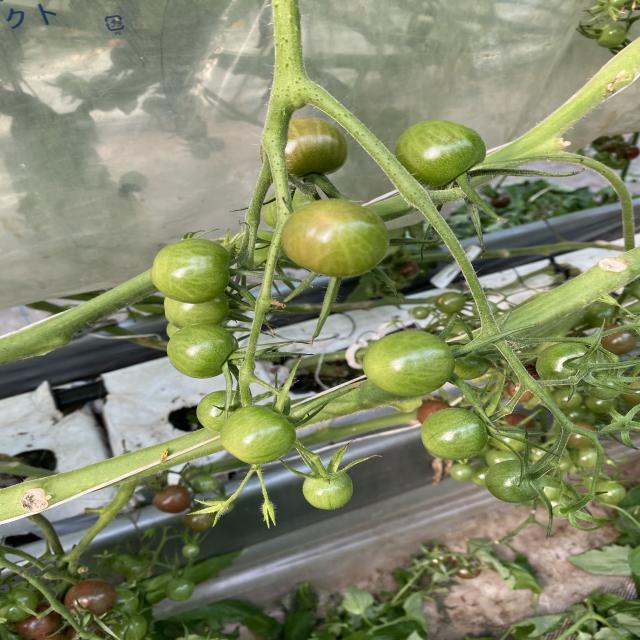kirmizi: (268, 192, 392, 286)
yesil: (108, 222, 258, 375), (186, 406, 364, 509), (377, 330, 438, 395)
